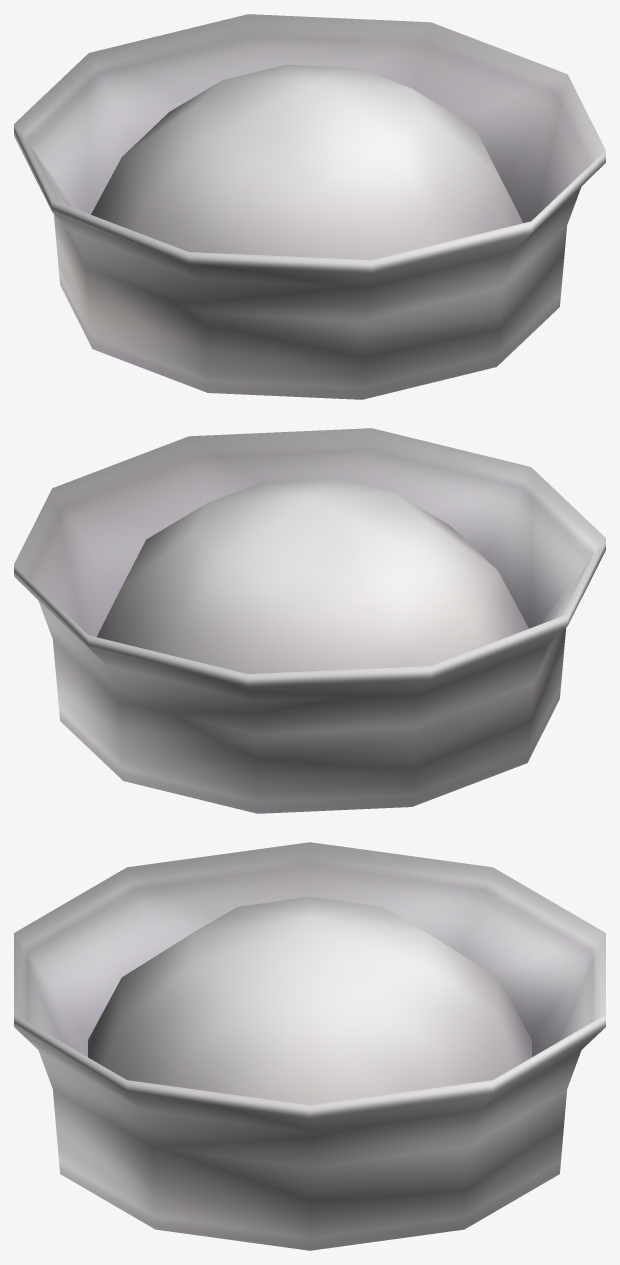
Rendered from ShaShouJia_01_haijunmao_01.FBX.
3 renders of one model, top to bottom at view 1: azimuth 30°, elevation 25°; view 2: azimuth 150°, elevation 25°; view 3: azimuth 270°, elevation 25°, orthographic. The views are drawn at different scales.
Parts seen in each view (by area): view 1: ShaShouJia_01_haijunmao_01; view 2: ShaShouJia_01_haijunmao_01; view 3: ShaShouJia_01_haijunmao_01.
Part boxes in pixels (box(x1,y1,x2,y2)): ShaShouJia_01_haijunmao_01: box(14, 14, 605, 399); ShaShouJia_01_haijunmao_01: box(14, 428, 605, 813); ShaShouJia_01_haijunmao_01: box(14, 842, 605, 1250).
Size of the model in its own units: 209 by 82.21 by 199.
